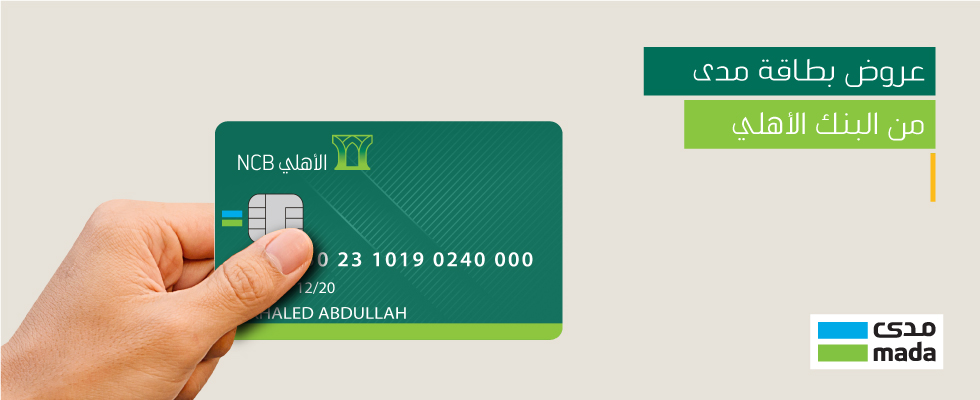tarjeta: (214, 119, 565, 344)
